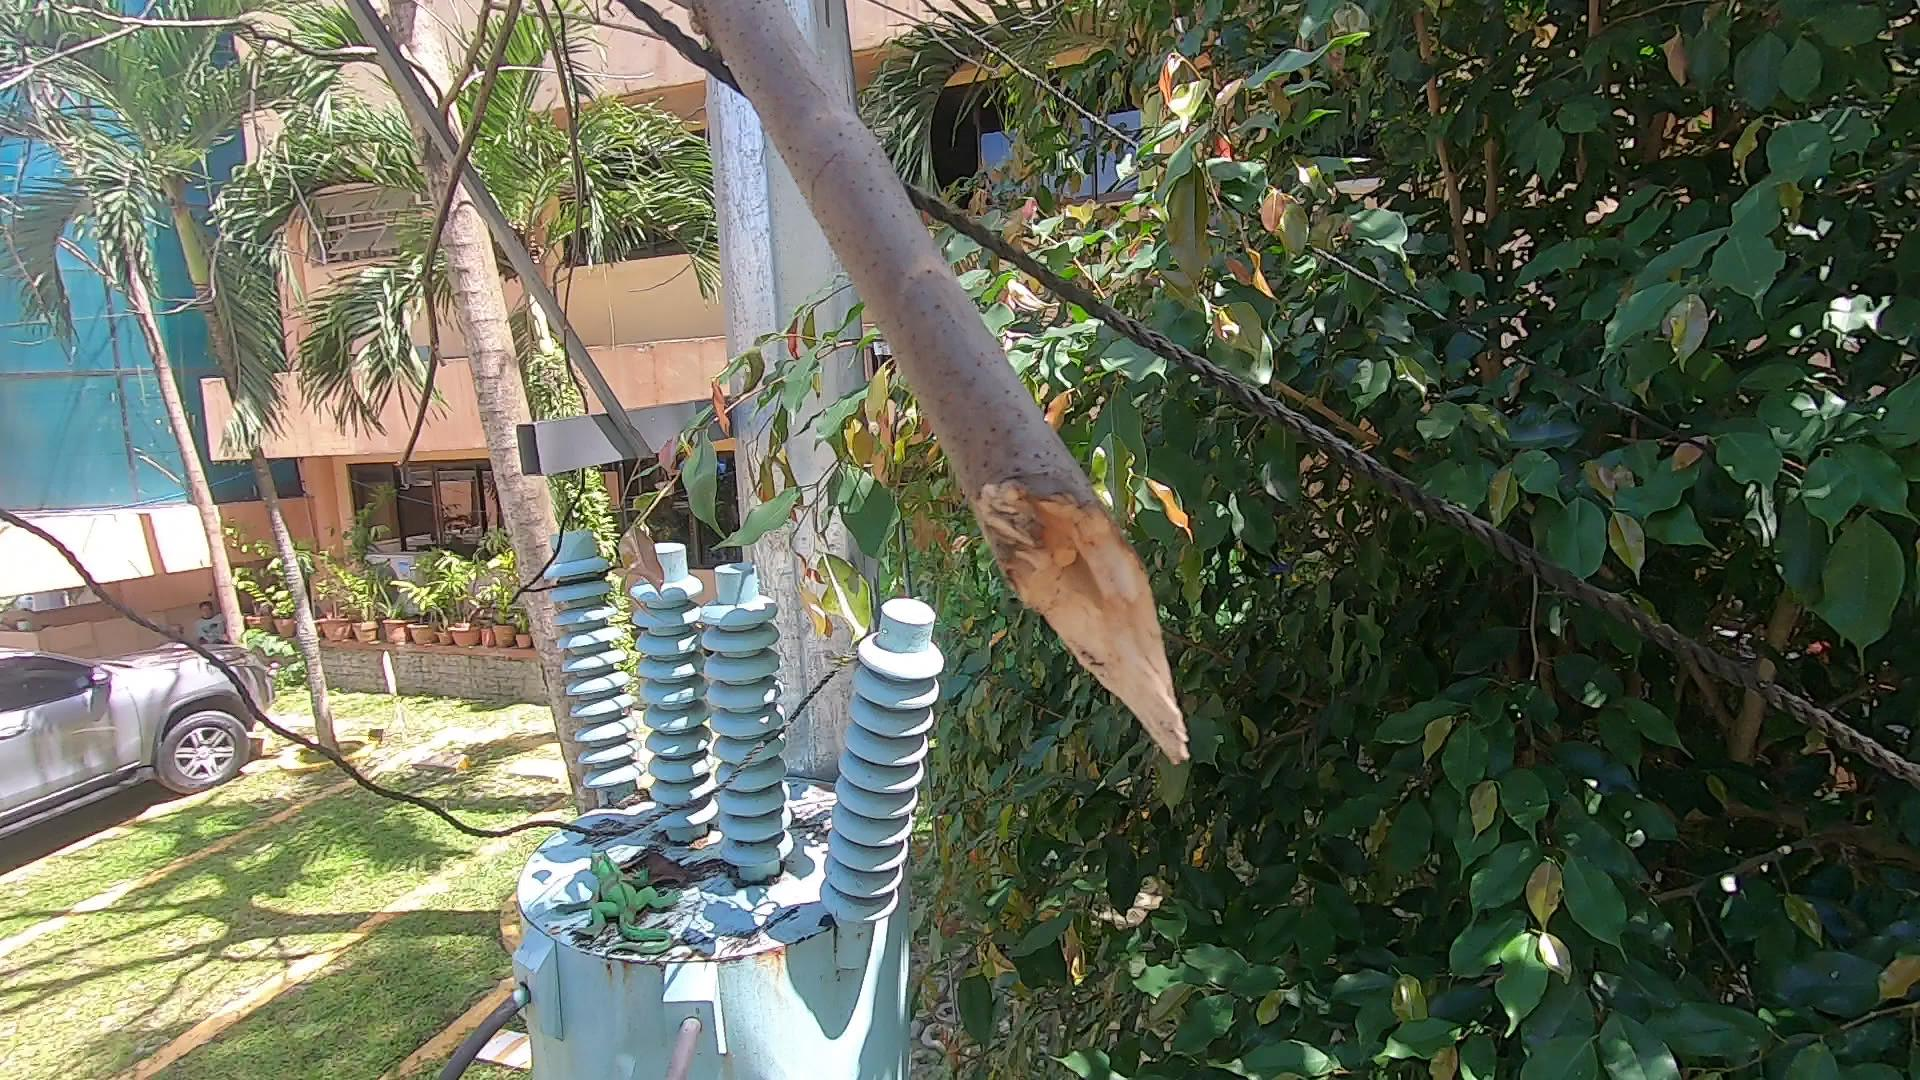branch with leaves: (676, 320, 928, 653)
leaf: (624, 845, 724, 895), (779, 804, 839, 837), (608, 778, 653, 804)
tree branch: (673, 13, 1253, 781)
